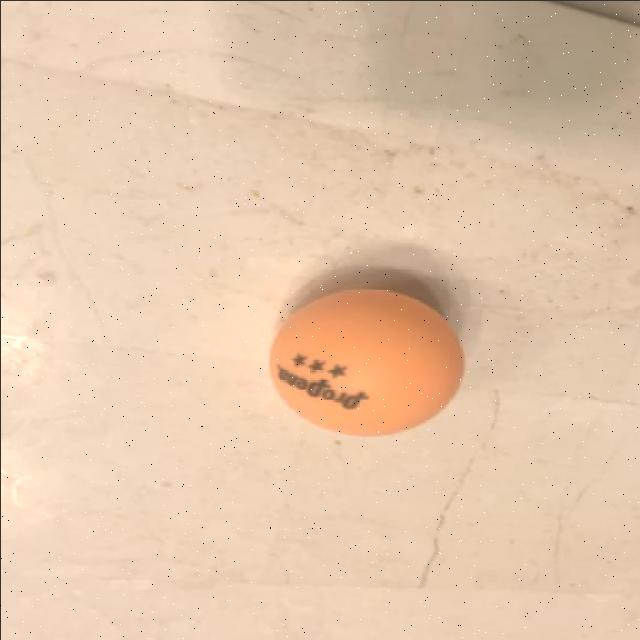ping-pong-ball: (256, 276, 474, 452)
